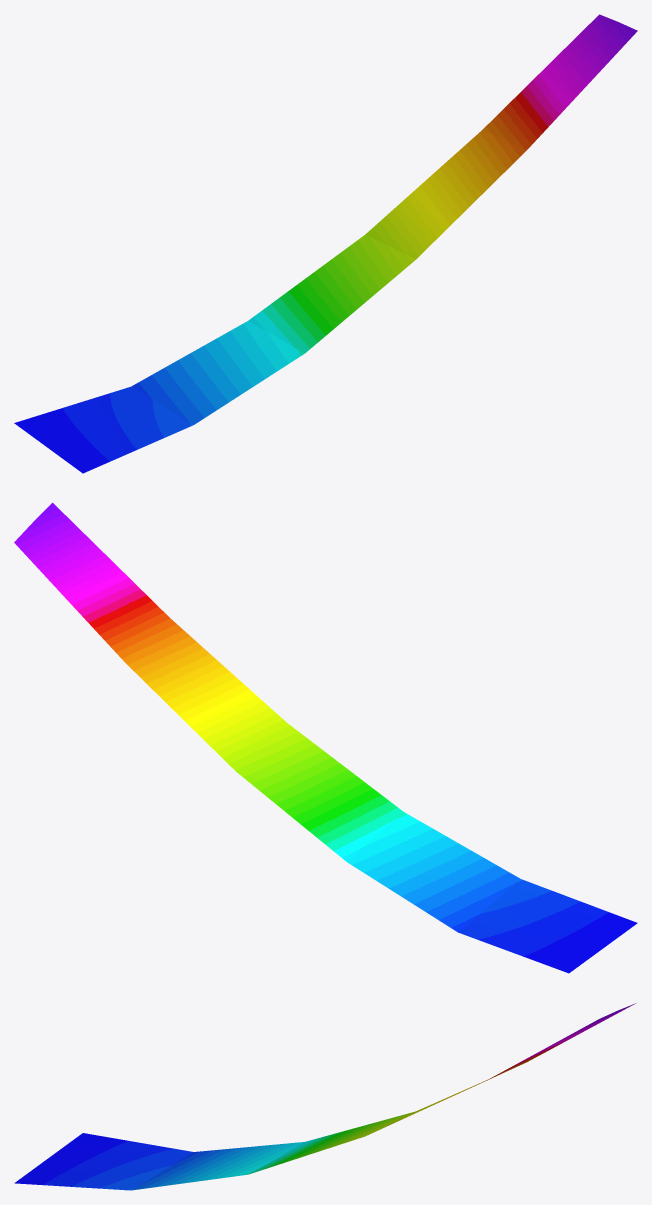
The picture shows the model from 3 angles, top to bottom: view 1: azimuth 30°, elevation 25°; view 2: azimuth 150°, elevation 25°; view 3: azimuth 330°, elevation 25°; orthographic projection.
Parts seen in each view (by area): view 1: Elements; view 2: Elements; view 3: Elements.
Boxes of the visible parts, box(x1,y1,x2,y2) form: Elements: box(14, 14, 637, 473); Elements: box(14, 502, 637, 973); Elements: box(14, 1003, 635, 1190).
Size of the model in its own units: 1 by 0.4902 by 0.2095.
1 material, 1 textured.
